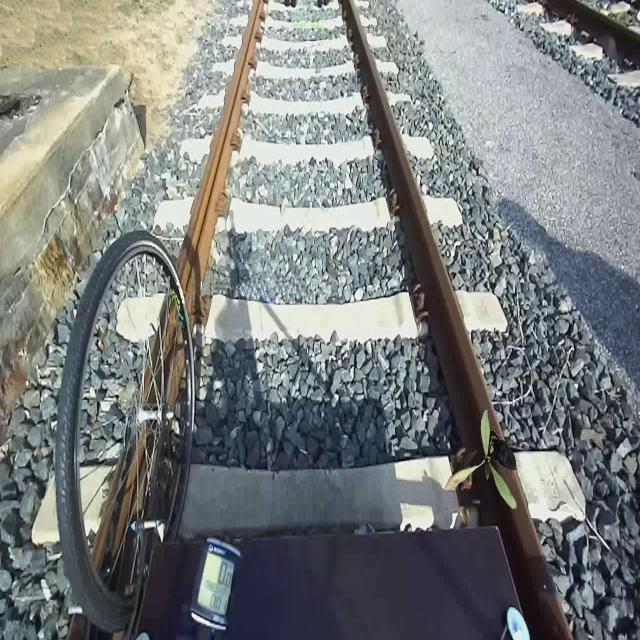Plant: (445, 410, 516, 510)
